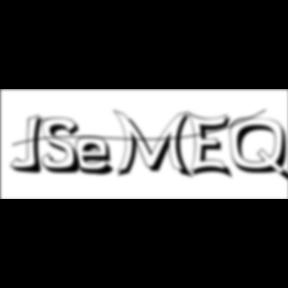E: (189, 110, 238, 182)
J: (11, 114, 50, 176)
M: (113, 108, 197, 181)
S: (42, 117, 88, 176)
e: (76, 135, 122, 178)
